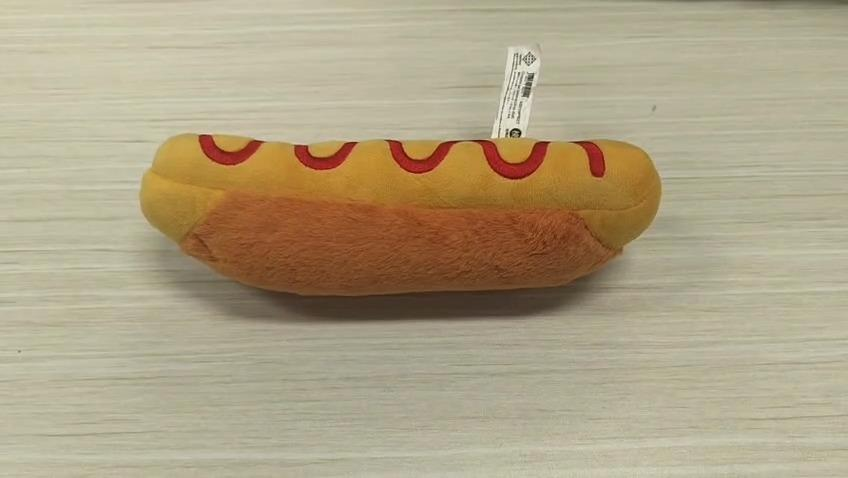hotdog: (140, 133, 660, 296)
